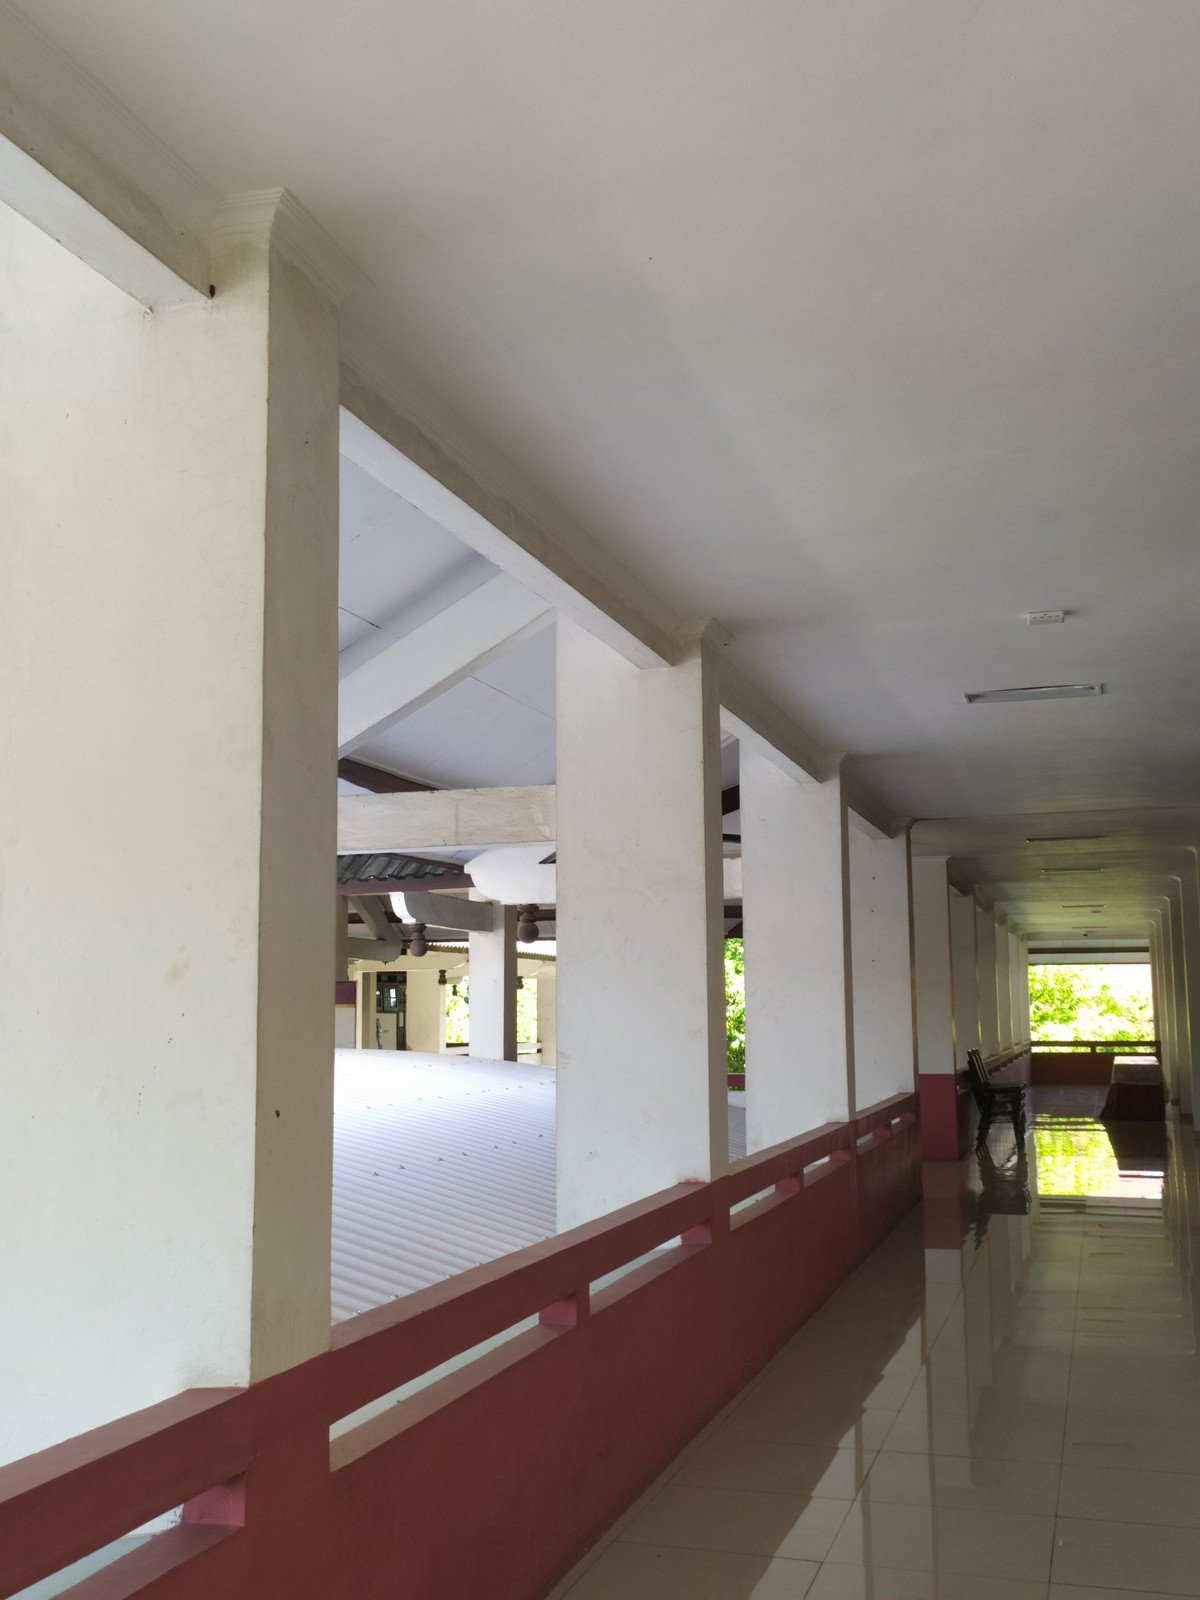concrete beam: (344, 777, 577, 862), (396, 894, 495, 944)
concrete column: (542, 617, 732, 1254), (732, 745, 865, 1151), (850, 810, 929, 1125), (466, 903, 522, 1067)
